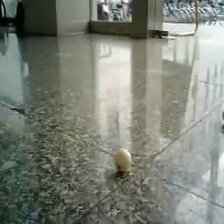w: (113, 148, 134, 172)
